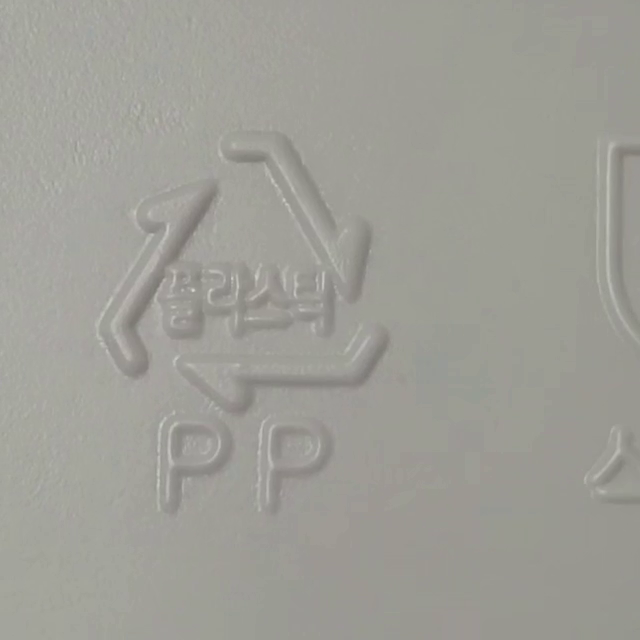Plastic: (100, 133, 385, 411)
